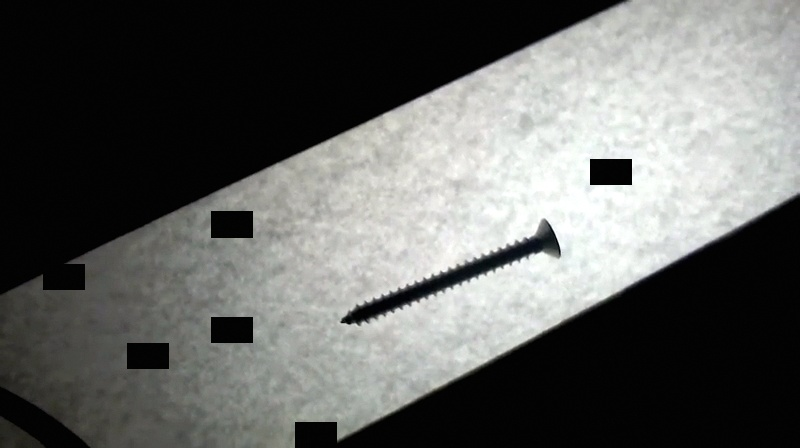S002: (335, 214, 567, 330)
